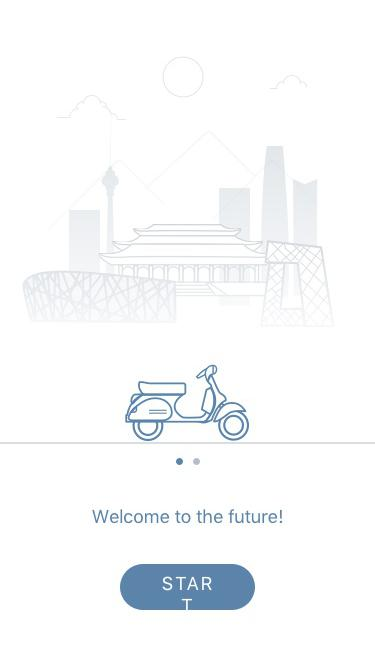Image: (22, 56, 335, 328), (125, 364, 250, 444)
PageIndicator: (175, 457, 202, 466)
Text: (92, 507, 284, 525)
TextButton: (120, 562, 257, 611)
